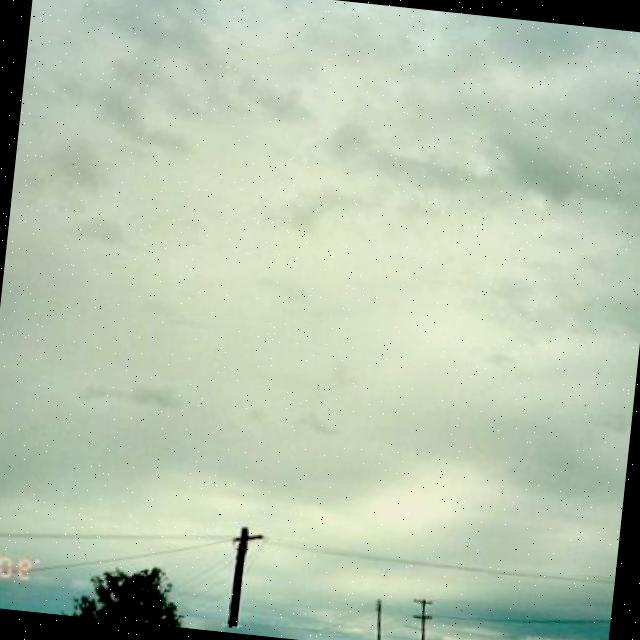Ns: (1, 1, 640, 478)
